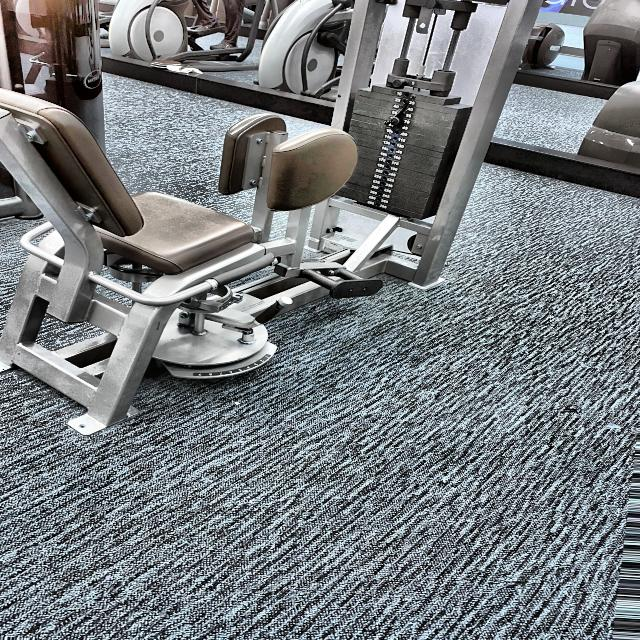hip_adduction_machine: (2, 78, 363, 438), (228, 101, 378, 357)
